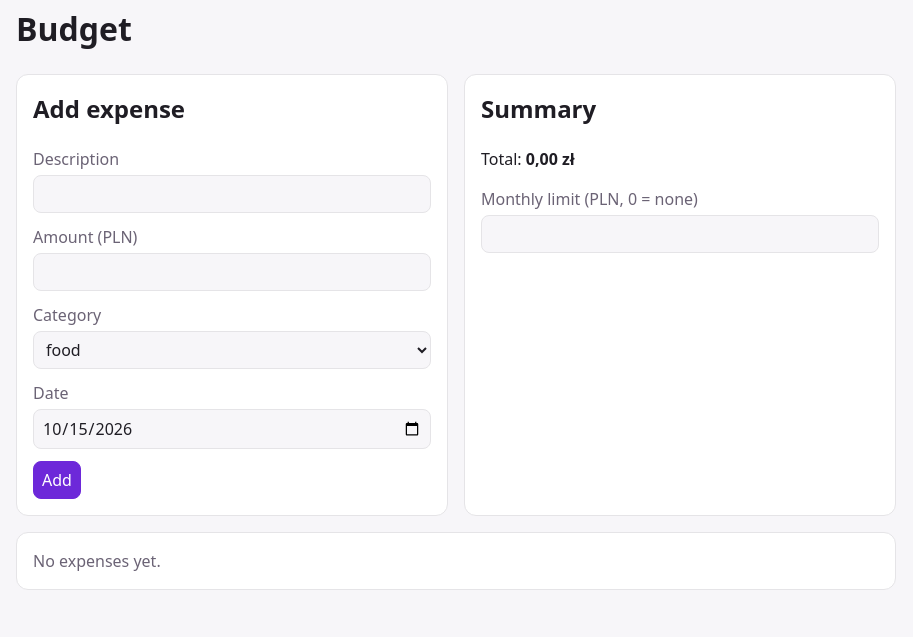
Test case: App › adds an expense and updates the total
This screenshot has width=913, height=637.
Type "Coffee" into the field labelled "Description" at (232, 194), box top-left (33, 175), bottom-right (431, 213)
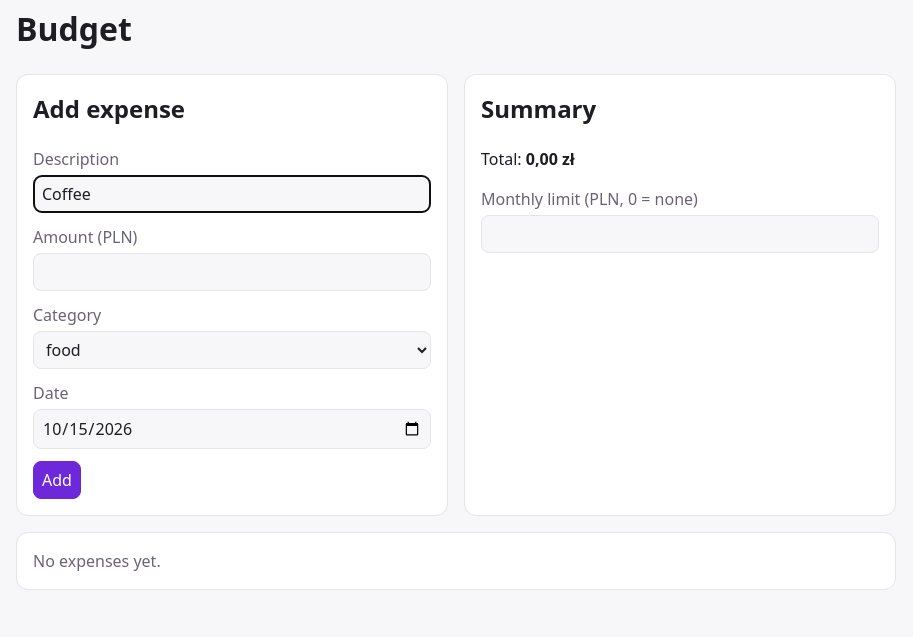
Type "9,50" into the field labelled "Amount (PLN)" at (232, 272), box top-left (33, 253), bottom-right (431, 291)
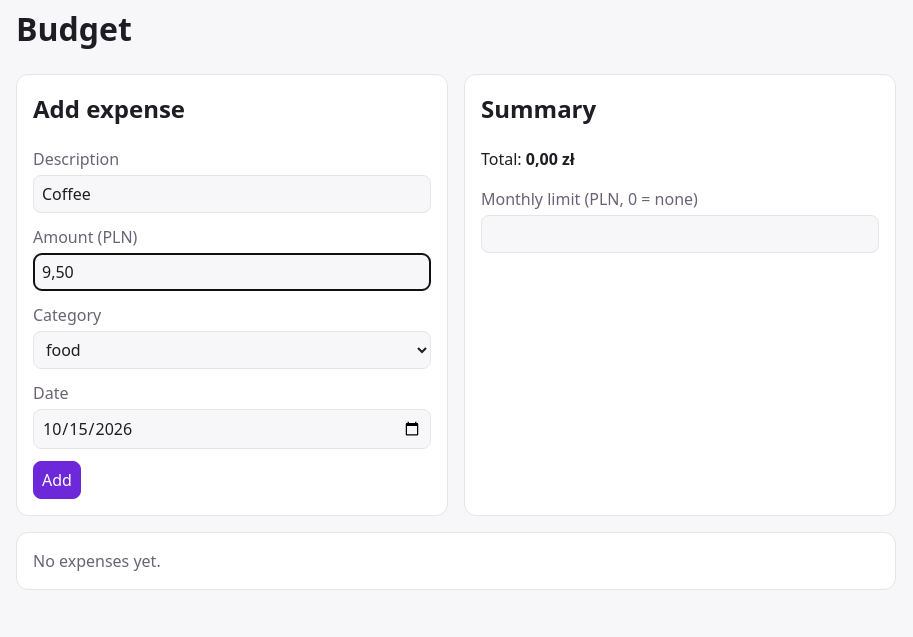
Click the button "Add" at (57, 480), box top-left (33, 461), bottom-right (81, 499)
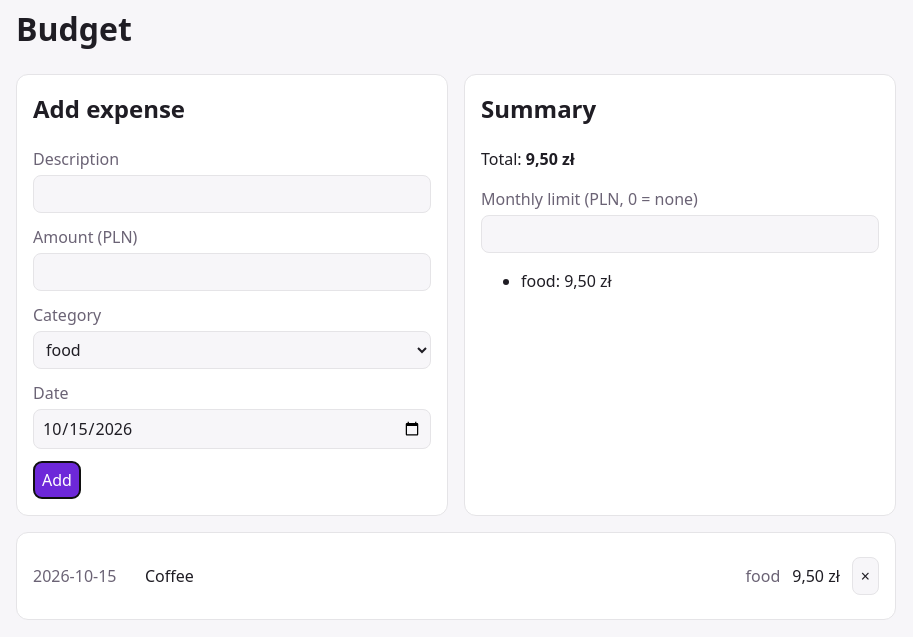
Expected: the list named "Expenses" shows "Coffee", top-left (145, 565), bottom-right (194, 587)
